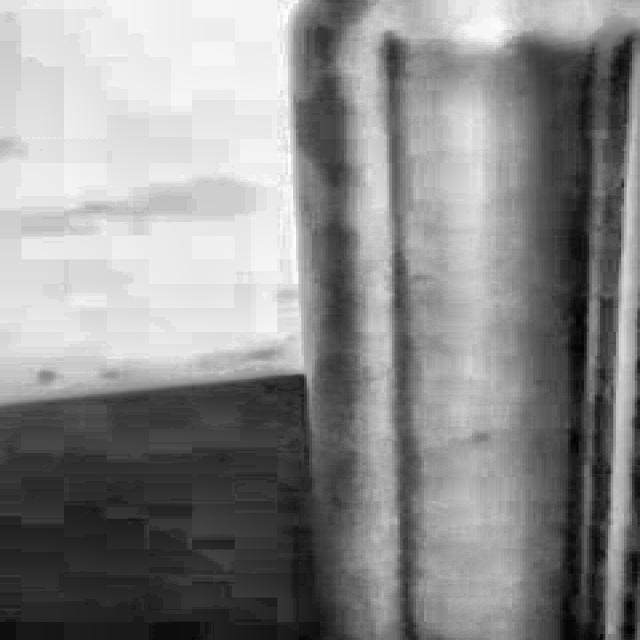bottle: (283, 0, 640, 640)
